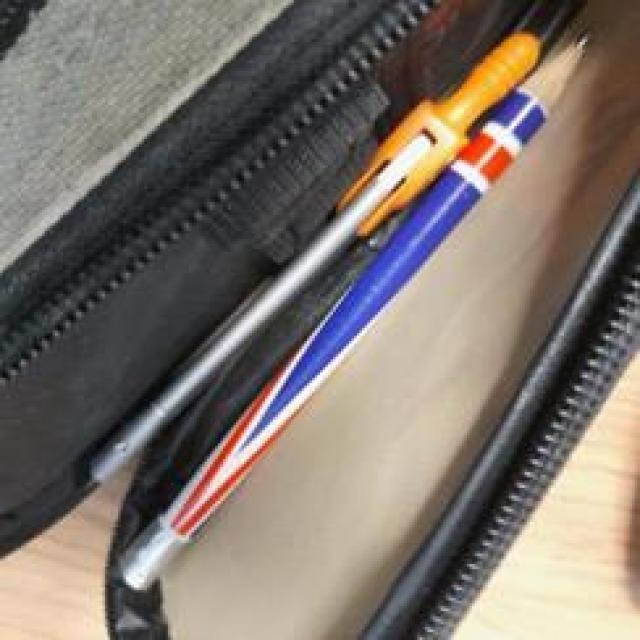pencil: (101, 11, 612, 612)
